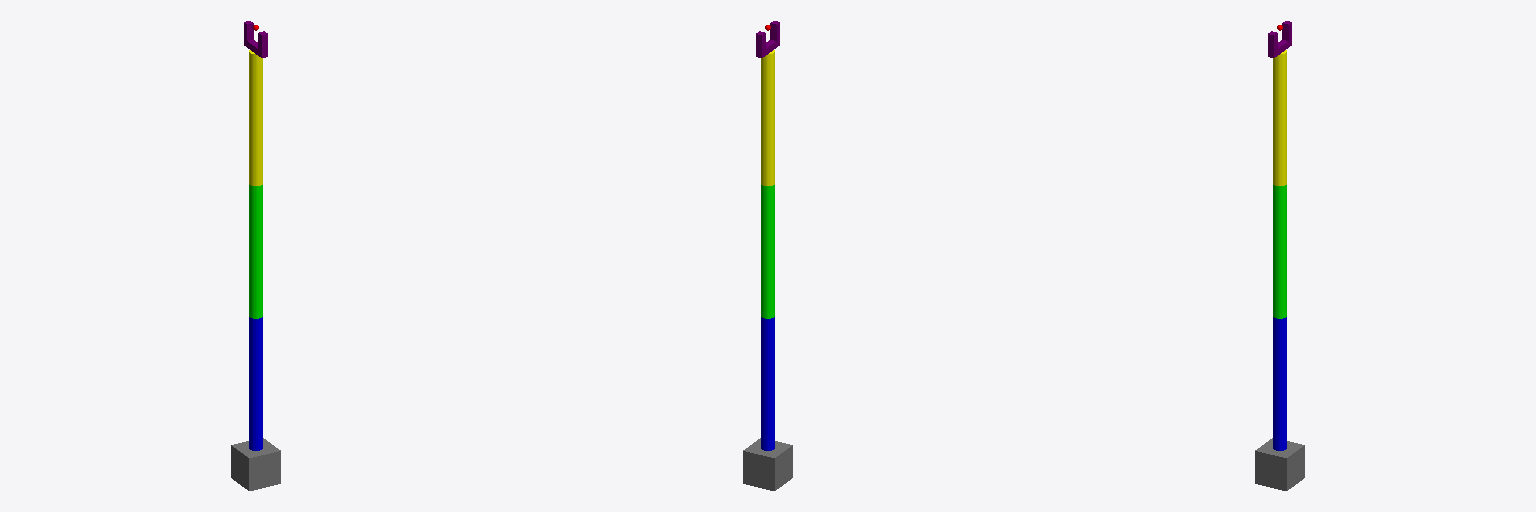
The robot description file, URDF, robot "prrr_manipulator":
<?xml version="1.0"?>
<robot name="prrr_manipulator">

  <!-- Base Link -->
  <link name="base_link">
    <visual>
      <origin xyz="0 0 0" rpy="0 0 0"/>
      <geometry>
        <box size="0.25 0.25 0.25"/>
      </geometry>
      <material name="gray">
        <color rgba="0.5 0.5 0.5 1"/>
      </material>
    </visual>
  </link>

  <!-- Joint -->
  <joint name="prismatic1" type="prismatic">
    <parent link="base_link"/>
    <child link="link1"/>
    <origin xyz="0 0 0.125" rpy="0 0 0"/>
    <axis xyz="0 1 0"/>
    <limit lower="-3.14" upper="3.14" effort="10" velocity="1"/>
  </joint>

  <!-- Link 1 -->
  <link name="link1">
  </link>

  <!-- Joint -->
  <joint name="revolute1" type="revolute">
    <parent link="link1"/>
    <child link="link2"/>
    <origin xyz="0 0 0" rpy="0 0 0"/>
    <axis xyz="1 0 0"/>
    <limit lower="-3.14" upper="3.14" effort="10" velocity="1"/>
  </joint>

  <!-- Link 2 -->
  <link name="link2">
    <visual>
      <origin xyz="0 0 0.5" rpy="0 0 0"/>
      <geometry>
        <cylinder length="1" radius="0.05"/>
      </geometry>
      <material name="blue">
        <color rgba="0 0 1 1"/>
      </material>
    </visual>
    <collision>
      <origin xyz="0 0 0.5" rpy="0 0 0"/>
      <geometry>
        <cylinder length="1" radius="0.05"/>
      </geometry>
    </collision>
  </link>

  <!-- Joint -->
  <joint name="revolute2" type="revolute">
    <parent link="link2"/>
    <child link="link3"/>
    <origin xyz="0 0 1" rpy="0 0 0"/>
    <axis xyz="1 0 0"/>
    <limit lower="-3.14" upper="3.14" effort="10" velocity="1"/>
  </joint>

  <!-- Link 2 -->
  <link name="link3">
    <visual>
      <origin xyz="0 0 0.5" rpy="0 0 0"/>
      <geometry>
        <cylinder length="1" radius="0.05"/>
      </geometry>
      <material name="green">
        <color rgba="0 1 0 1"/>
      </material>
    </visual>
    <collision>
      <origin xyz="0 0 0.5" rpy="0 0 0"/>
      <geometry>
        <cylinder length="1" radius="0.05"/>
      </geometry>
    </collision>
  </link>

  <!-- Joint -->
  <joint name="revolute3" type="revolute">
    <parent link="link3"/>
    <child link="link4"/>
    <origin xyz="0 0 1" rpy="0 0 0"/>
    <axis xyz="1 0 0"/>
    <limit lower="-3.14" upper="3.14" effort="10" velocity="1"/>
  </joint>

  <!-- Link 3 -->
  <link name="link4">
    <visual>
      <origin xyz="0 0 0.5" rpy="0 0 0"/>
      <geometry>
        <cylinder length="1" radius="0.05"/>
      </geometry>
      <material name="yellow">
        <color rgba="1 1 0 1"/>
      </material>
    </visual>
    <collision>
      <origin xyz="0 0 0.5" rpy="0 0 0"/>
      <geometry>
        <cylinder length="1" radius="0.05"/>
      </geometry>
    </collision>
  </link>

  <!-- Joint -->
  <joint name="fixed1" type="fixed">
    <parent link="link4"/>
    <child link="wrist"/>
    <origin xyz="0 0 1.025" rpy="0 0 0"/>
    <axis xyz="0 0 1"/>
    <limit lower="-3.14" upper="3.14" effort="10" velocity="1"/>
  </joint>

  <!-- Wrist Link -->
  <link name="wrist">
    <visual>
      <origin xyz="0 0 0" rpy="0 0 0"/>
      <geometry>
        <box size="0.05 0.25 0.05"/>
      </geometry>
      <material name="purple">
        <color rgba="0.5 0 0.5 1"/>
      </material>
    </visual>
    <collision>
      <origin xyz="0 0 0" rpy="0 0 0"/>
      <geometry>
        <box size="0.05 0.25 0.05"/>
      </geometry>
    </collision>
  </link>

  <!-- Joint -->
  <joint name="fixed2" type="fixed">
    <parent link="wrist"/>
    <child link="left_finger"/>
    <origin xyz="0 -0.1 0.075" rpy="0 0 0"/>
  </joint>

  <!-- Left Finger Link -->
  <link name="left_finger">
    <visual>
      <origin xyz="0 0 0" rpy="0 0 0"/>
      <geometry>
        <box size="0.05 0.05 0.15"/>
      </geometry>
      <material name="purple">
        <color rgba="0.5 0 0.5 1"/>
      </material>
    </visual>
    <collision>
      <origin xyz="0 0 0" rpy="0 0 0"/>
      <geometry>
        <box size="0.05 0.05 0.15"/>
      </geometry>
    </collision>
  </link>

  <!-- Joint -->
  <joint name="fixed3" type="fixed">
    <parent link="wrist"/>
    <child link="right_finger"/>
    <origin xyz="0 0.1 0.075" rpy="0 0 0"/>
  </joint>

  <!-- Right Finger Link -->
  <link name="right_finger">
    <visual>
      <origin xyz="0 0 0" rpy="0 0 0"/>
      <geometry>
        <box size="0.05 0.05 0.15"/>
      </geometry>
      <material name="purple">
        <color rgba="0.5 0 0.5 1"/>
      </material>
    </visual>
    <collision>
      <origin xyz="0 0 0" rpy="0 0 0"/>
      <geometry>
        <box size="0.05 0.05 0.15"/>
      </geometry>
    </collision>
  </link>

  <!-- Center of gripper -->
  <link name="gripper_center">
    <visual>
      <origin xyz="0 0 0.0" rpy="0 0 0"/>
      <geometry>
        <sphere radius="0.02"/> 
      </geometry>
      <material name="red">
        <color rgba="1 0 0 1"/>
      </material>
    </visual>
  </link>

  <!-- Joint -->
  <joint name="fixed4" type="fixed">
    <parent link="wrist"/>
    <child link="gripper_center"/>
    <origin xyz="0 0 0.15" rpy="0 0 0"/>
  </joint>  

</robot>

--- Render facts (derived) ---
Views: 3 orthographic renders of the robot side by side, from view 1: azimuth 30°, elevation 25°; view 2: azimuth 150°, elevation 25°; view 3: azimuth 330°, elevation 25°.
Robot: prrr_manipulator — 9 links, 8 joints (3 revolute, 1 prismatic, 4 fixed); root link base_link; default pose: every joint at zero.
Visible links, largest first — view 1: base_link, link3, link2, link4; view 2: base_link, link3, link2, link4; view 3: base_link, link3, link2, link4.
Link boxes in pixels (x1,y1,x2,y2): base_link: (231,438,280,490); link3: (249,185,262,318); link2: (249,317,262,450); link4: (249,50,262,185); base_link: (743,438,792,490); link3: (761,185,774,318); link2: (761,317,774,450); link4: (761,50,774,185); base_link: (1255,438,1304,490); link3: (1273,185,1286,318); link2: (1273,317,1286,450); link4: (1273,50,1286,185).
Bounding box of the posed robot: 0.25 × 0.25 × 3.44 m (x, y, z).
Geometry: primitives only (box / cylinder / sphere), no mesh files.
